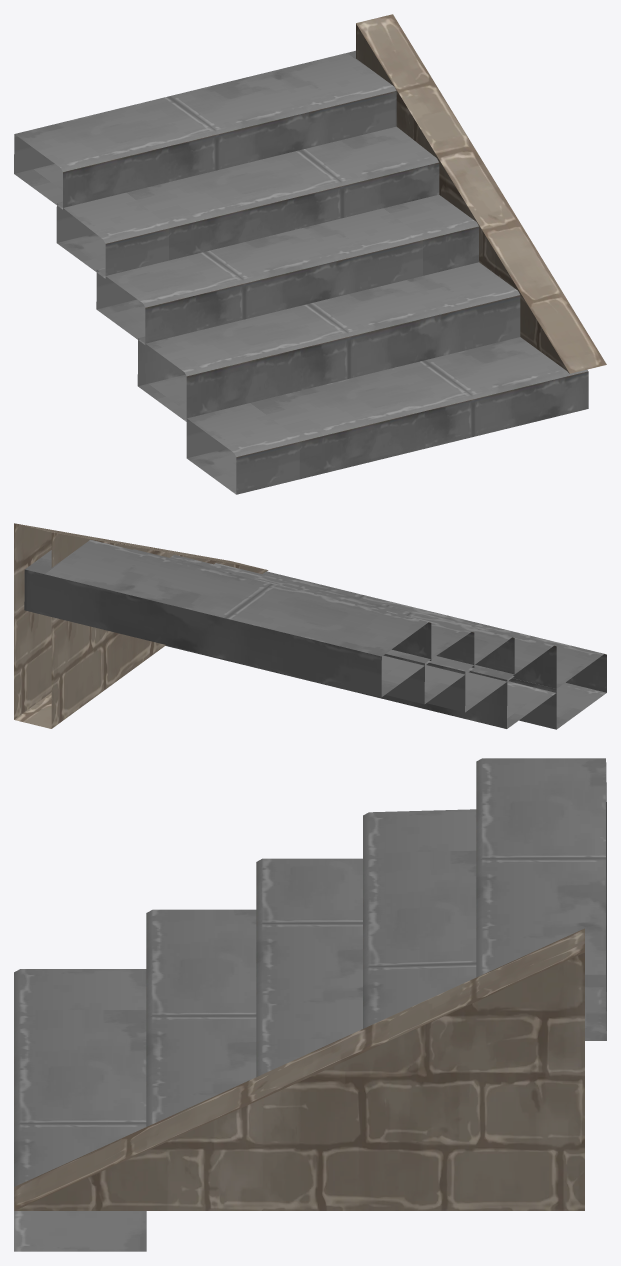
Rendered from Stairs_Exterior_Straight_R.glb.
3 views of the same model, one above another, from view 1: azimuth 30°, elevation 25°; view 2: azimuth 150°, elevation 25°; view 3: azimuth 270°, elevation 25° (orthographic). The views are drawn at different scales.
Visible parts, largest first — view 1: Stairs_Exterior_Straight_R; view 2: Stairs_Exterior_Straight_R; view 3: Stairs_Exterior_Straight_R.
Part boxes in pixels (x1,y1,x2,y2): Stairs_Exterior_Straight_R: (14, 14, 606, 494); Stairs_Exterior_Straight_R: (14, 523, 606, 729); Stairs_Exterior_Straight_R: (14, 758, 606, 1251).
Bounding box in the file's own units: 2 × 1.2 × 2.08.
2 materials, 2 textured.
